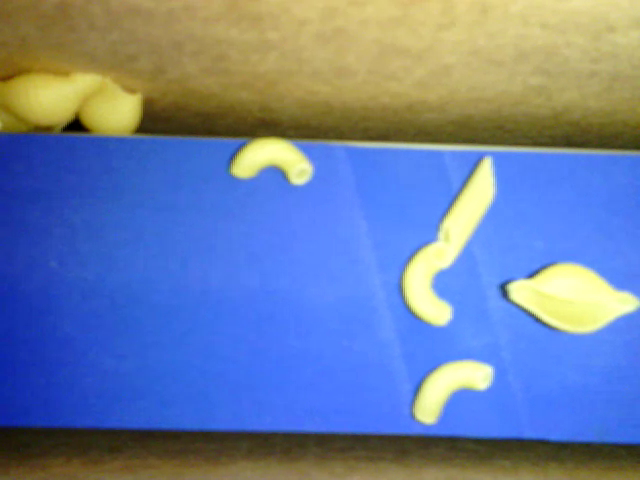elbow: (225, 133, 319, 190), (414, 359, 495, 423), (403, 238, 455, 325)
penne: (434, 152, 494, 260)
shell: (502, 260, 639, 333), (3, 73, 108, 120), (77, 75, 145, 134), (1, 111, 86, 132)
